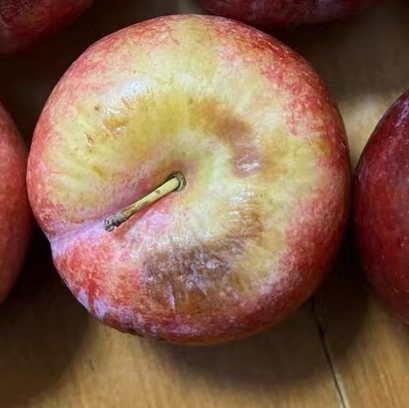plum_C: (25, 14, 352, 346)
